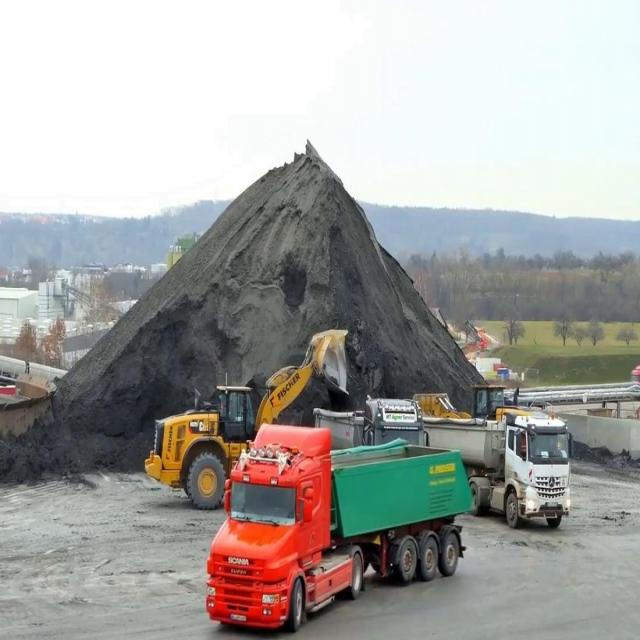Dump Truck: (202, 419, 473, 632), (421, 406, 573, 529), (311, 393, 431, 447)
Loader: (140, 326, 350, 511), (410, 384, 556, 421)
